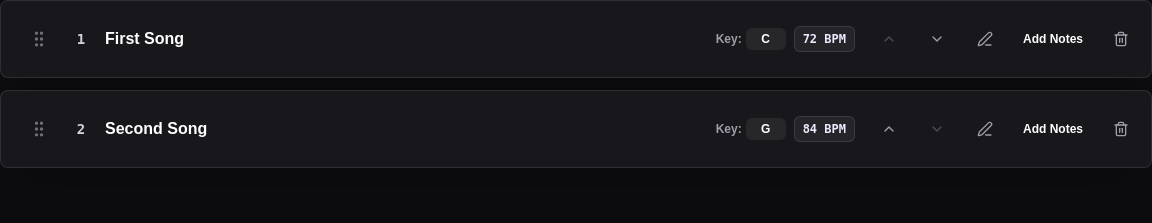
Test: SetlistSongOrder › restores the previous order and reports a rejected save
The width and height of the screenshot is (1152, 223).
Click the button named "Move First Song down".
click(937, 39)  # box [915,17,959,61]
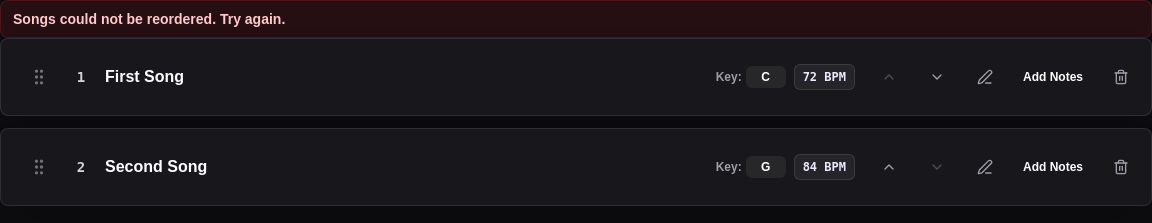
Expected: the button named "Move First Song up" is disabled, [867,55,911,99]
Now the message reads "Songs could not be reordered. Try again.", box [13,11,285,27]
